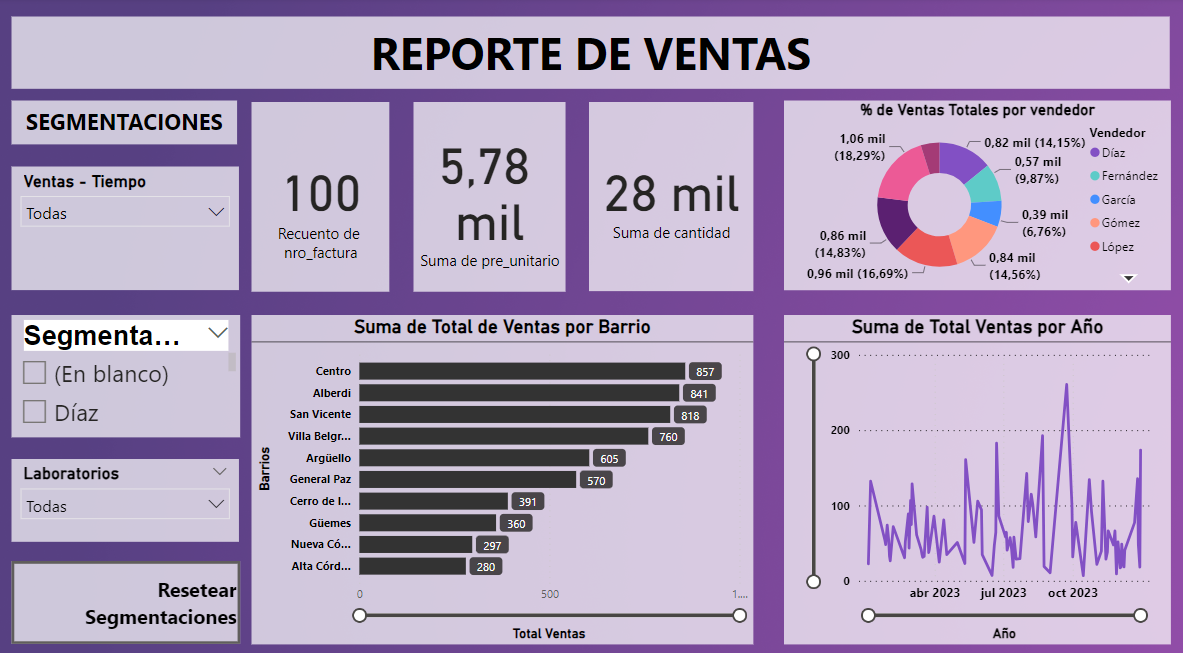

What the dashboard file says about the page in this screenshot:
{"tool":"powerbi","page":{"name":"Reporte Ventas","canvas":[1280,720],"ordinal":1},"visuals":[{"type":"card","fields":{"Values":["CountNonNull(FACTURAS.nro_factura)"]},"box":[273.9,113.3,148.8,204.6],"z":0},{"type":"card","fields":{"Values":["Sum(DETALLES_FACTURA.pre_unitario)"]},"box":[448.1,113.3,164,204.6],"z":1000},{"type":"card","fields":{"Values":["Sum(DETALLES_FACTURA.cantidad)"]},"box":[638.1,113.3,177.5,203.9],"z":2000},{"type":"slicer","fields":{"Values":["FACTURAS.fecha"]},"box":[15.2,182.6,245.2,133.6],"z":3000},{"type":"barChart","title":"Suma de Total de Ventas por Barrio","fields":{"Category":["BARRIOS.barrio"],"Y":["Sum(DETALLES_FACTURA.pre_unitario)"]},"box":[273.9,343.2,541.1,355.1],"z":4000},{"type":"slicer","fields":{"Values":["EMPLEADOS.ape_empleado"]},"box":[15.2,343.2,246.9,131.9],"z":5000},{"type":"textbox","box":[15.2,20.3,1249.6,77.8],"z":6000},{"type":"lineChart","title":"Suma de Total Ventas por Año","fields":{"Category":["FACTURAS.fecha.Variación.Jerarquía de fechas.Año","FACTURAS.fecha.Variación.Jerarquía de fechas.Trimestre","FACTURAS.fecha.Variación.Jerarquía de fechas.Mes","FACTURAS.fecha.Variación.Jerarquía de fechas.Día"],"Y":["Sum(DETALLES_FACTURA.pre_unitario)"]},"box":[847.1,343.2,417.6,355.1],"z":7000},{"type":"slicer","fields":{"Values":["LABORATORIOS.nom_laboratorio"]},"box":[15.2,498.8,245.2,89.6],"z":8000},{"type":"textbox","box":[15.2,111.6,243.5,47.3],"z":9000},{"type":"actionButton","box":[15.2,608.7,246.9,89.6],"z":10000},{"type":"donutChart","title":"% de Ventas Totales por vendedor","fields":{"Y":["CountNonNull(facturas.cod_vendedor)"],"Series":["facturas.cod_vendedor"]},"box":[847.1,111.6,417.6,204.6],"z":11000}]}

Visuals, with their boxes in screenshot pixels (x1, y1, x2, y2), scaled from the page's 1280x720 canvas onto the 1183x653 screenshot:
card - CountNonNull(FACTURAS.nro_factura): l=253, t=103, r=391, b=288
card - Sum(DETALLES_FACTURA.pre_unitario): l=414, t=103, r=566, b=288
card - Sum(DETALLES_FACTURA.cantidad): l=590, t=103, r=754, b=288
slicer - FACTURAS.fecha: l=14, t=166, r=241, b=287
"Suma de Total de Ventas por Barrio" barChart: l=253, t=311, r=753, b=633
slicer - EMPLEADOS.ape_empleado: l=14, t=311, r=242, b=431
textbox: l=14, t=18, r=1169, b=89
"Suma de Total Ventas por Año" lineChart: l=783, t=311, r=1169, b=633
slicer - LABORATORIOS.nom_laboratorio: l=14, t=452, r=241, b=534
textbox: l=14, t=101, r=239, b=144
actionButton: l=14, t=552, r=242, b=633
"% de Ventas Totales por vendedor" donutChart: l=783, t=101, r=1169, b=287
